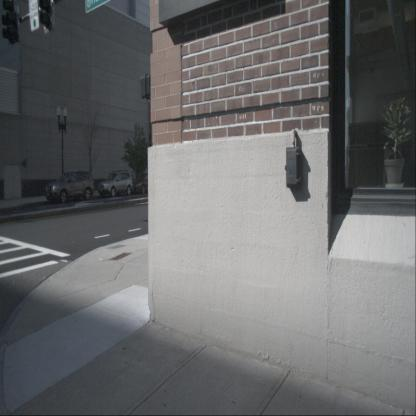vehicle-car: (44, 168, 96, 204), (98, 169, 134, 199), (130, 172, 159, 195)
